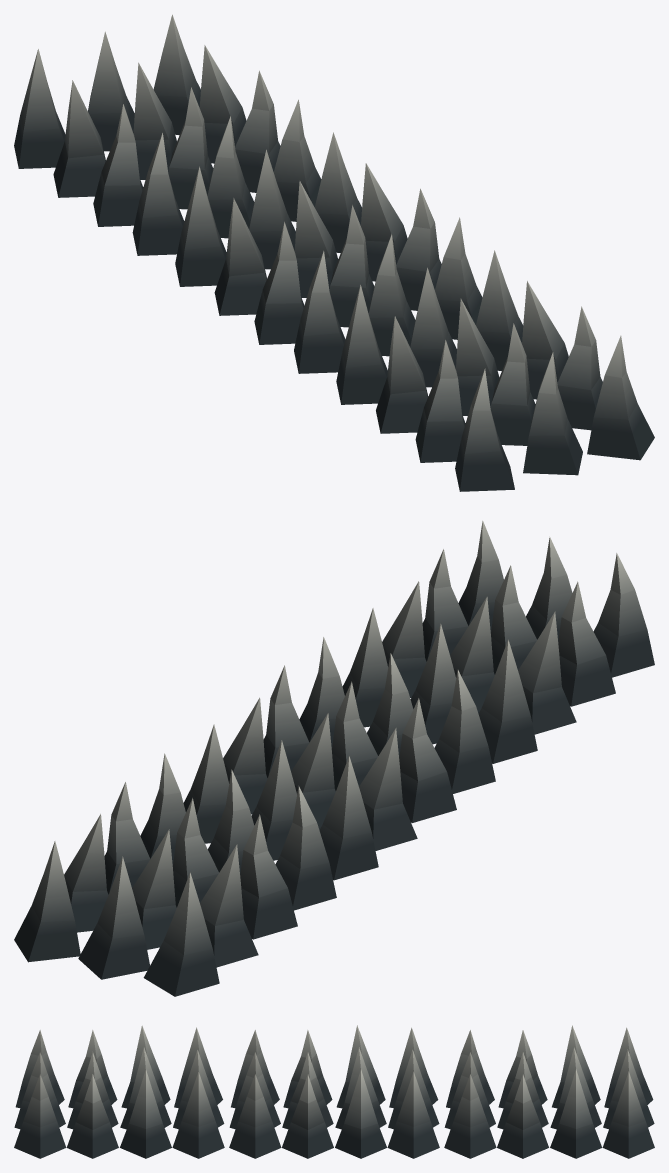
File: P_Spike_3x0_000.fbx
3 views of the same model, one above another, from view 1: azimuth 30°, elevation 25°; view 2: azimuth 150°, elevation 25°; view 3: azimuth 270°, elevation 25° (orthographic). The views are drawn at different scales.
Visible parts, largest first — view 1: SM_Spike_3x0_000; view 2: SM_Spike_3x0_000; view 3: SM_Spike_3x0_000.
Boxes of the visible parts, x1=… form: SM_Spike_3x0_000: x1=14, y1=14, x2=654, y2=491; SM_Spike_3x0_000: x1=14, y1=520, x2=654, y2=996; SM_Spike_3x0_000: x1=14, y1=1025, x2=654, y2=1158.
Size of the model in its own units: 2.28 by 1.2 by 9.38.
